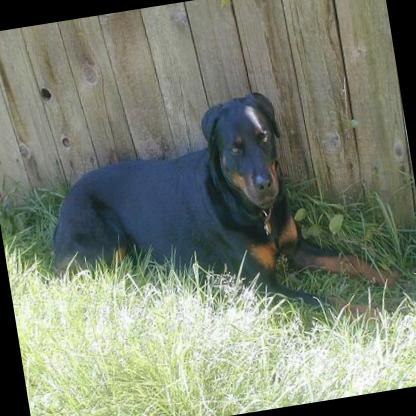Rottweiler: (26, 68, 413, 384)
